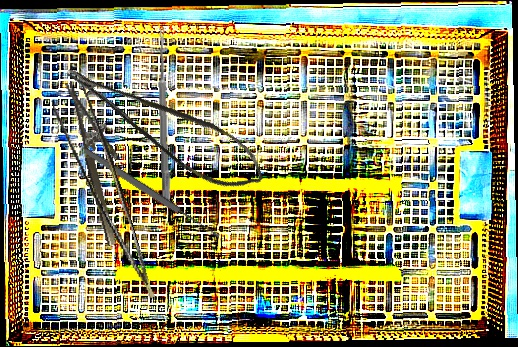Micro Scissor: (61, 33, 275, 211)
Needle Holder: (65, 75, 139, 247)
Surgical Spoon: (82, 146, 222, 241), (156, 27, 172, 204)
Tissue Forceps: (49, 81, 155, 310)
